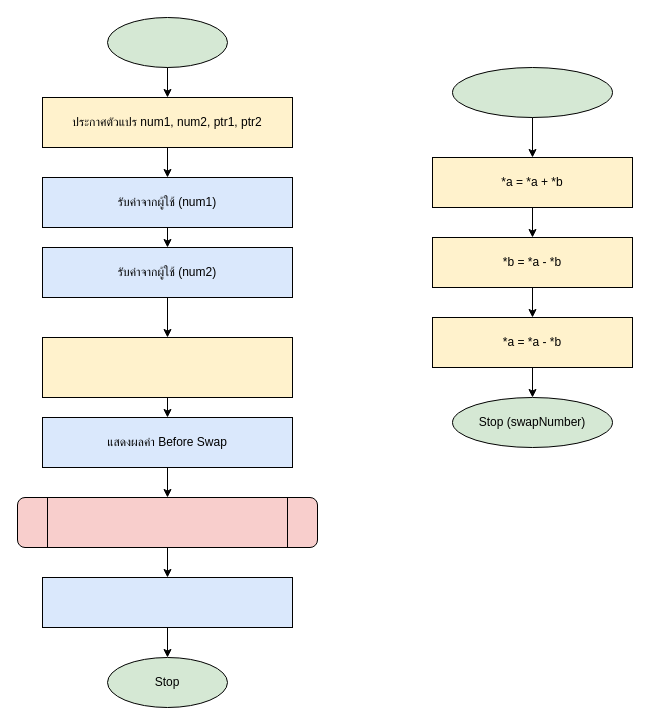
Some shapes in this 650 by 725 pixel diagram are drawn without their labels. The shapes that lost their labels are listed below. From the top down, each one's centre as x and y in pixels, then its label:
At point (167, 42): "Start".
At point (532, 92): "Start (swapNumber)".
At point (167, 367): "ptr1 = &num1 ptr2 = &num2".
At point (167, 522): "เรียกใช้ฟังก์ชัน swapNumber(ptr1, ptr2)".
At point (167, 602): "แสดงผลค่า After Swap".
